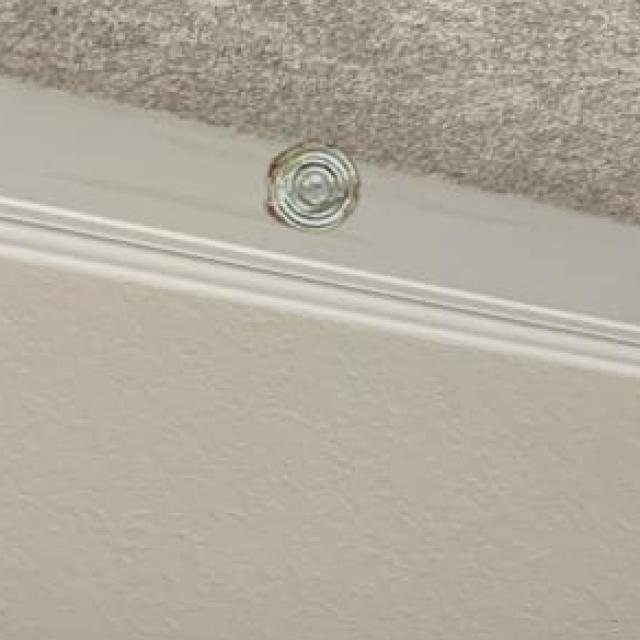logam: (271, 148, 363, 233)
